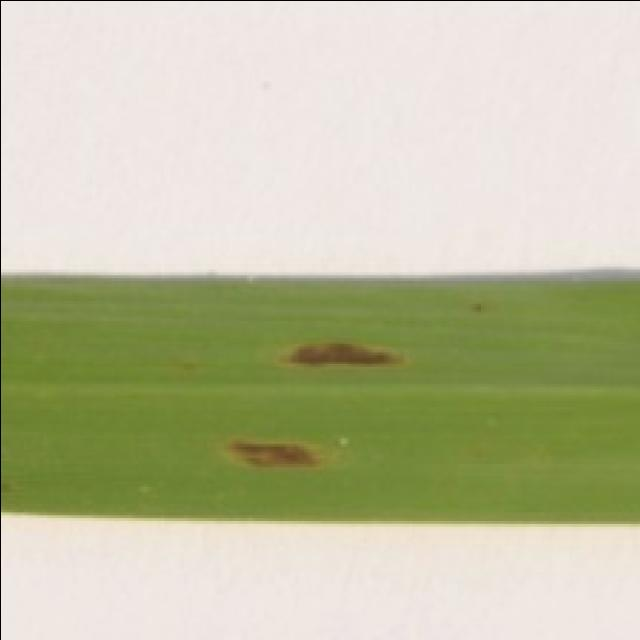Unhealthy: (218, 436, 328, 472), (281, 336, 403, 368)
